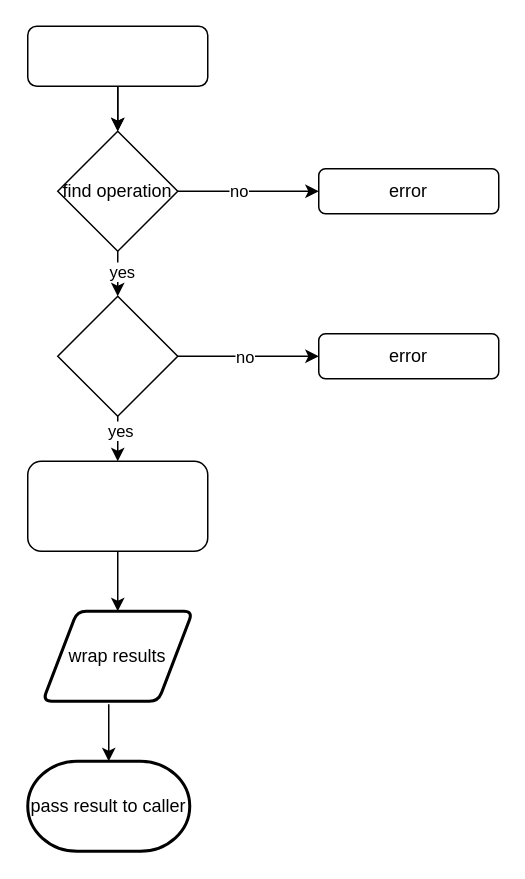
This 525x879 diagram has some shape labels left out. Here are the shapes that lost their labels. From the top down, the centre of each, then its label:
At (x=117, y=55): "resolve parameters".
At (x=117, y=355): "prepare operation".
At (x=117, y=505): "run operation".
